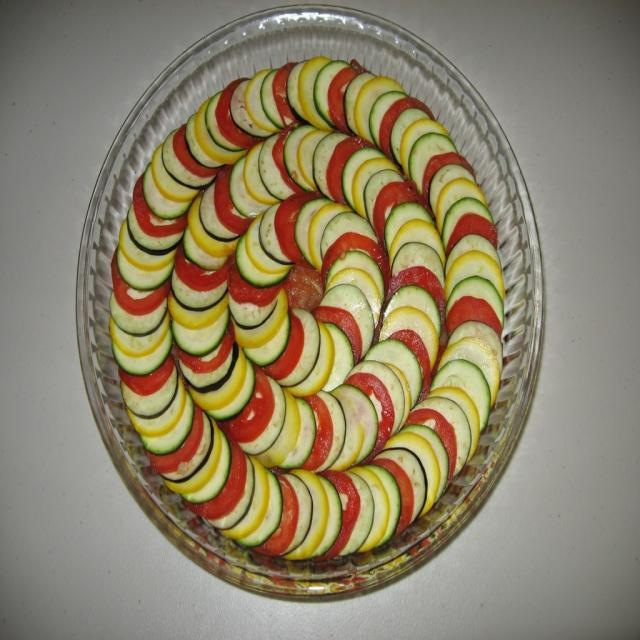Zucchini: (107, 54, 507, 564)
